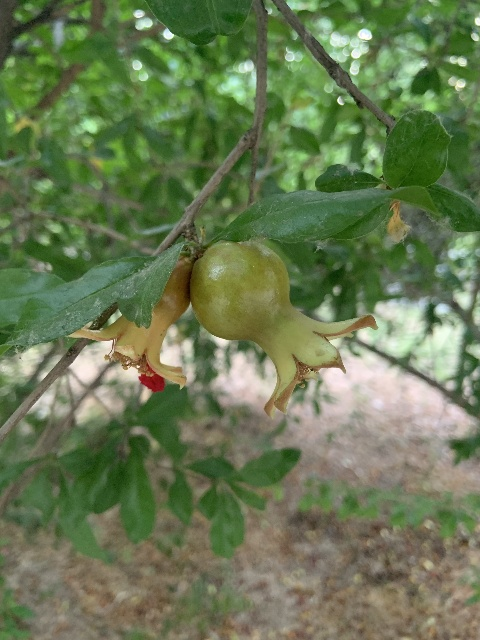early-fruit: (68, 257, 190, 394)
mid-growth: (189, 240, 377, 417)
